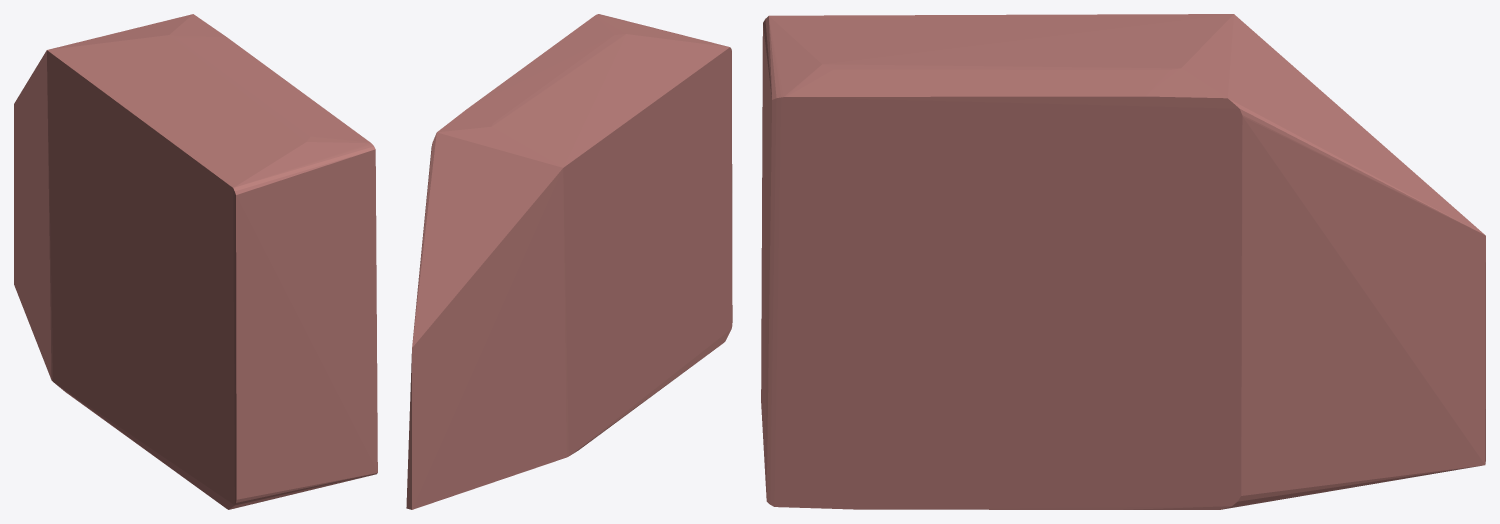
Rendered from cabinet_file_c01.glb.
3 renders of one model, left to right at view 1: azimuth 30°, elevation 25°; view 2: azimuth 150°, elevation 25°; view 3: azimuth 270°, elevation 25°, orthographic. The views are drawn at different scales.
Parts seen in each view (by area): view 1: geometry_0; view 2: geometry_0; view 3: geometry_0.
Boxes of the visible parts, left/top/right/bottom form: geometry_0: left=14, top=14, right=377, bottom=509; geometry_0: left=406, top=14, right=732, bottom=509; geometry_0: left=761, top=14, right=1485, bottom=509.
Size of the model in its own units: 0.1376 by 0.3052 by 0.4799.
